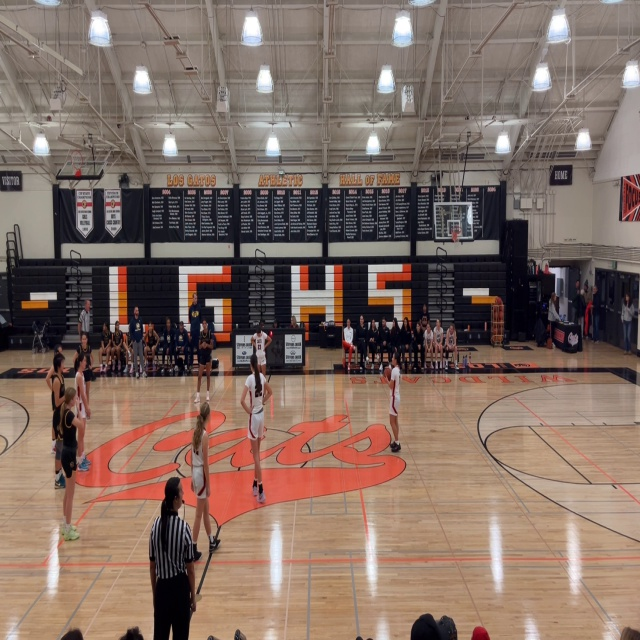Basketball: (383, 366, 392, 380)
